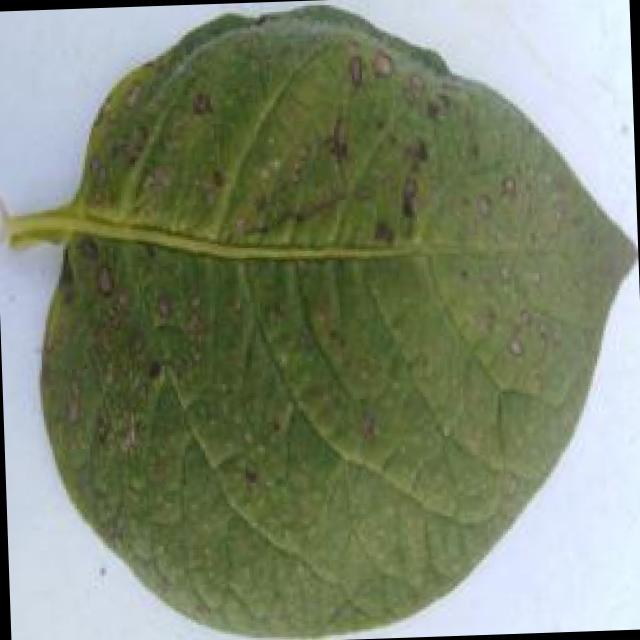Potato_Early_Blight: (35, 10, 636, 633)
